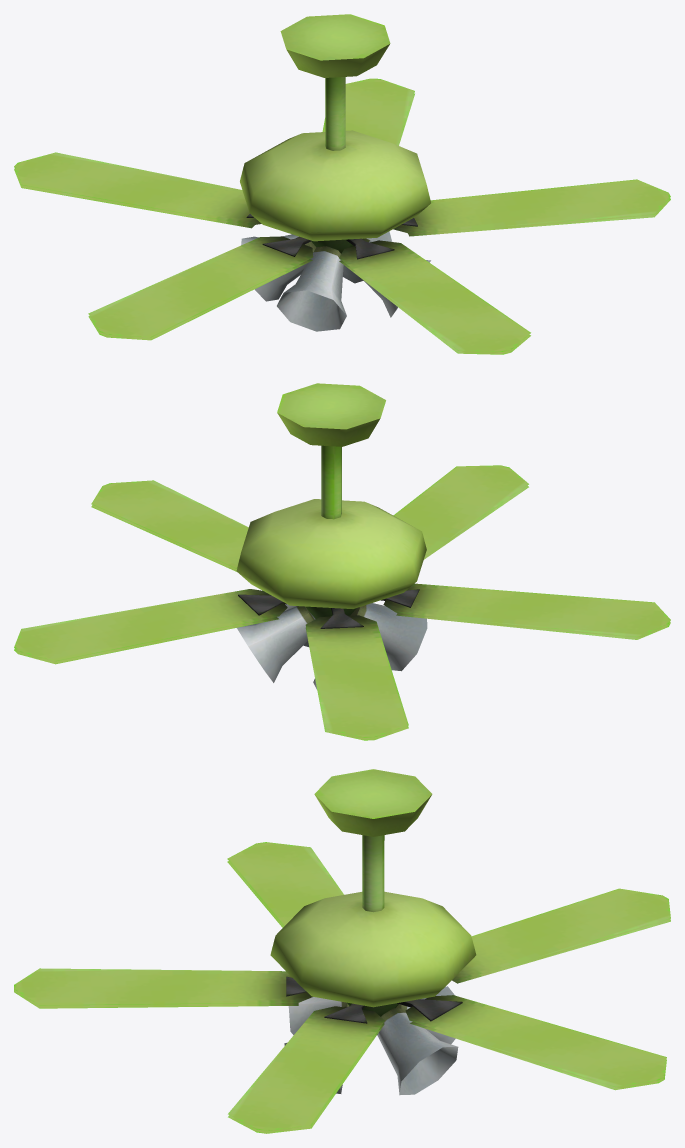
Rendered from furni_0200145_02.FBX.
3 views of the same model, one above another, from view 1: azimuth 30°, elevation 25°; view 2: azimuth 150°, elevation 25°; view 3: azimuth 270°, elevation 25° (orthographic). The views are drawn at different scales.
Visible parts, largest first — view 1: furni_0200145_02; view 2: furni_0200145_02; view 3: furni_0200145_02.
Part boxes in pixels (left/top/right/bottom): furni_0200145_02: left=14, top=14, right=670, bottom=354; furni_0200145_02: left=14, top=383, right=670, bottom=740; furni_0200145_02: left=14, top=769, right=670, bottom=1133.
Bounding box in the file's own units: 147 × 66.51 × 141.
1 material, 1 textured.
